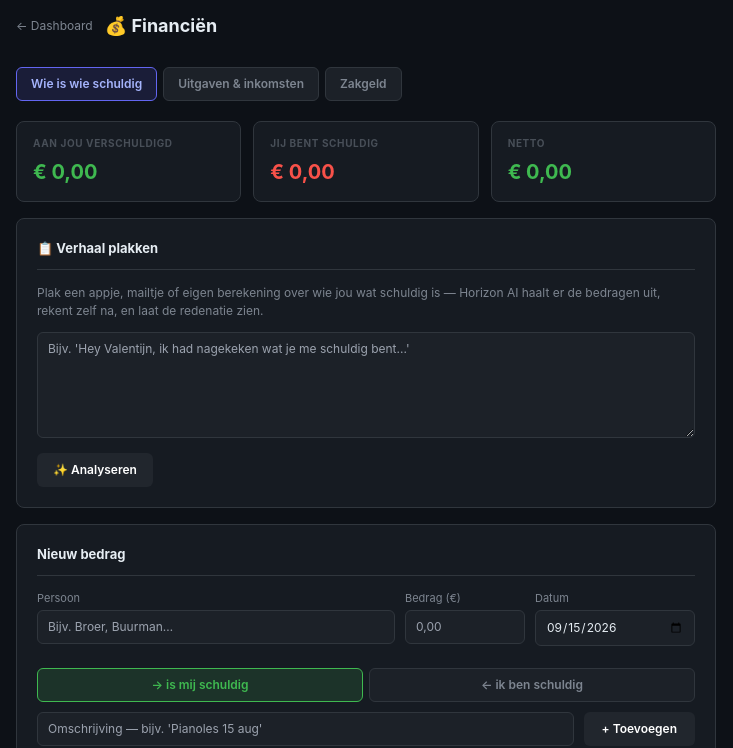
Test: FinanceClient — tabs › wisselt naar de zakgeld-tab
What coordinates should you click on to do the following:
click the button "Zakgeld"
I would click on:
 (363, 84)
Its box is [325,67,402,101].
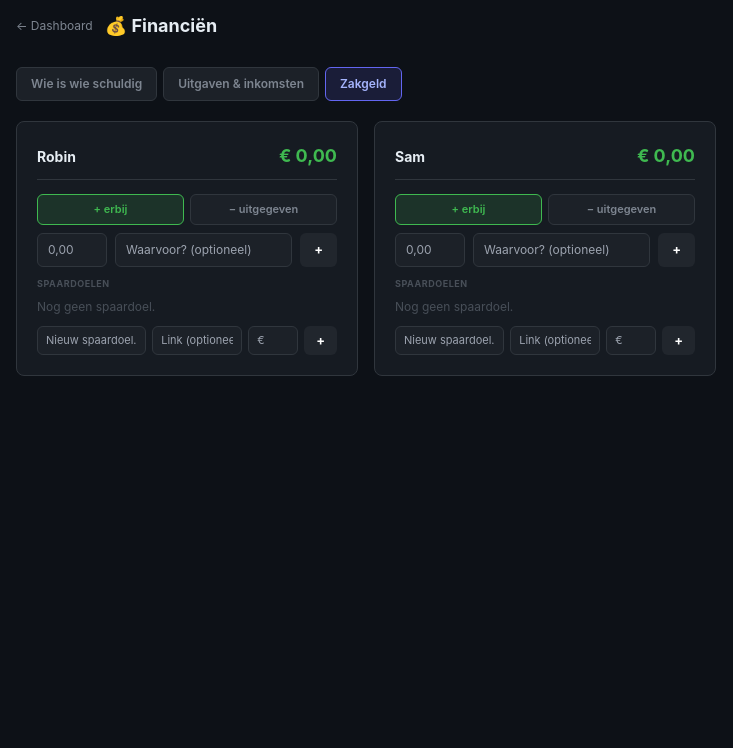
Result: the heading "Robin" is shown at [37,146,76,167]
Result: the heading "Sam" is shown at [395,146,425,167]
Result: the heading "Nieuw bedrag" is gone
